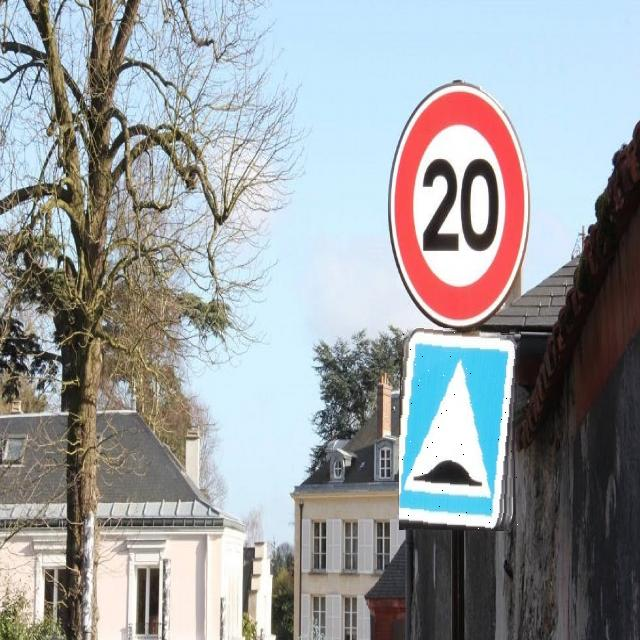hump: (399, 328, 519, 530)
